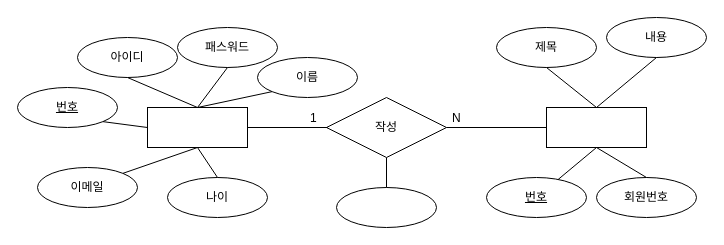
Image size: 724x245. Some labels were removed from this diagram. Each missing label, with the centre of its shape:
게시물: pixel 596 127
작성일자: pixel 386 207
회원: pixel 197 127
